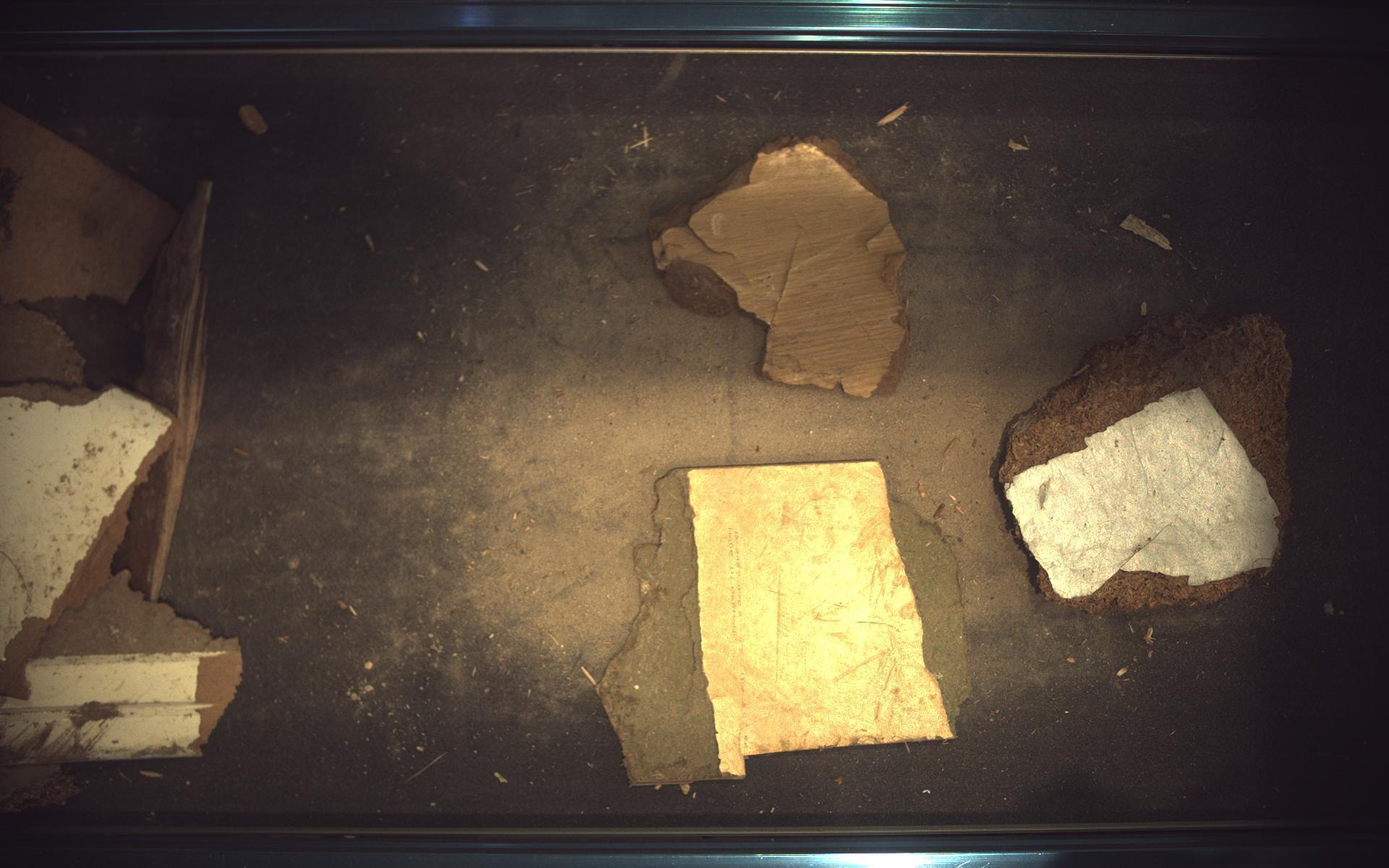wood: (599, 462, 969, 786), (1000, 314, 1295, 613), (650, 136, 912, 397), (1, 572, 242, 813), (1, 384, 174, 699), (114, 179, 211, 601), (1, 103, 178, 303), (1, 302, 84, 386)
